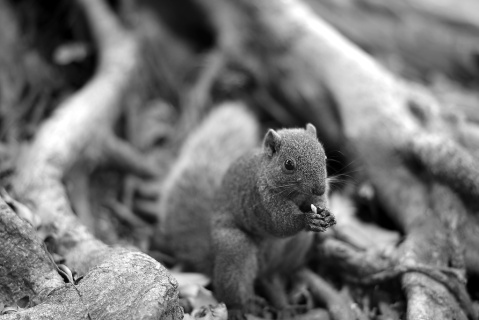Squirrel: (160, 99, 371, 308)
